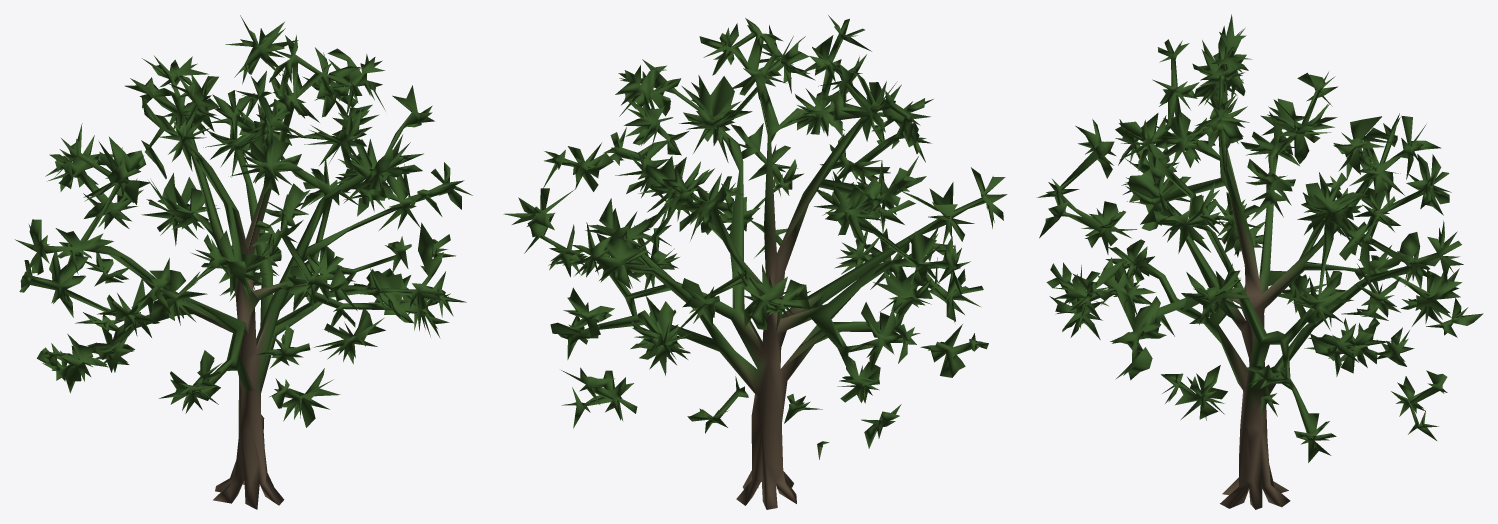
The model's file is hornbeam-runtime.glb.
The picture shows the model from 3 angles, left to right: view 1: azimuth 30°, elevation 25°; view 2: azimuth 150°, elevation 25°; view 3: azimuth 270°, elevation 25°; orthographic projection. The views are drawn at different scales.
Parts seen in each view (by area): view 1: Monza hornbeam — local colour derivative; view 2: Monza hornbeam — local colour derivative; view 3: Monza hornbeam — local colour derivative.
Boxes of the visible parts, x1=… form: Monza hornbeam — local colour derivative: x1=15, y1=15, x2=472, y2=509; Monza hornbeam — local colour derivative: x1=503, y1=15, x2=1007, y2=509; Monza hornbeam — local colour derivative: x1=1036, y1=14, x2=1483, y2=509.
Bounding box in the file's own units: 15.39 × 15.75 × 14.24.
